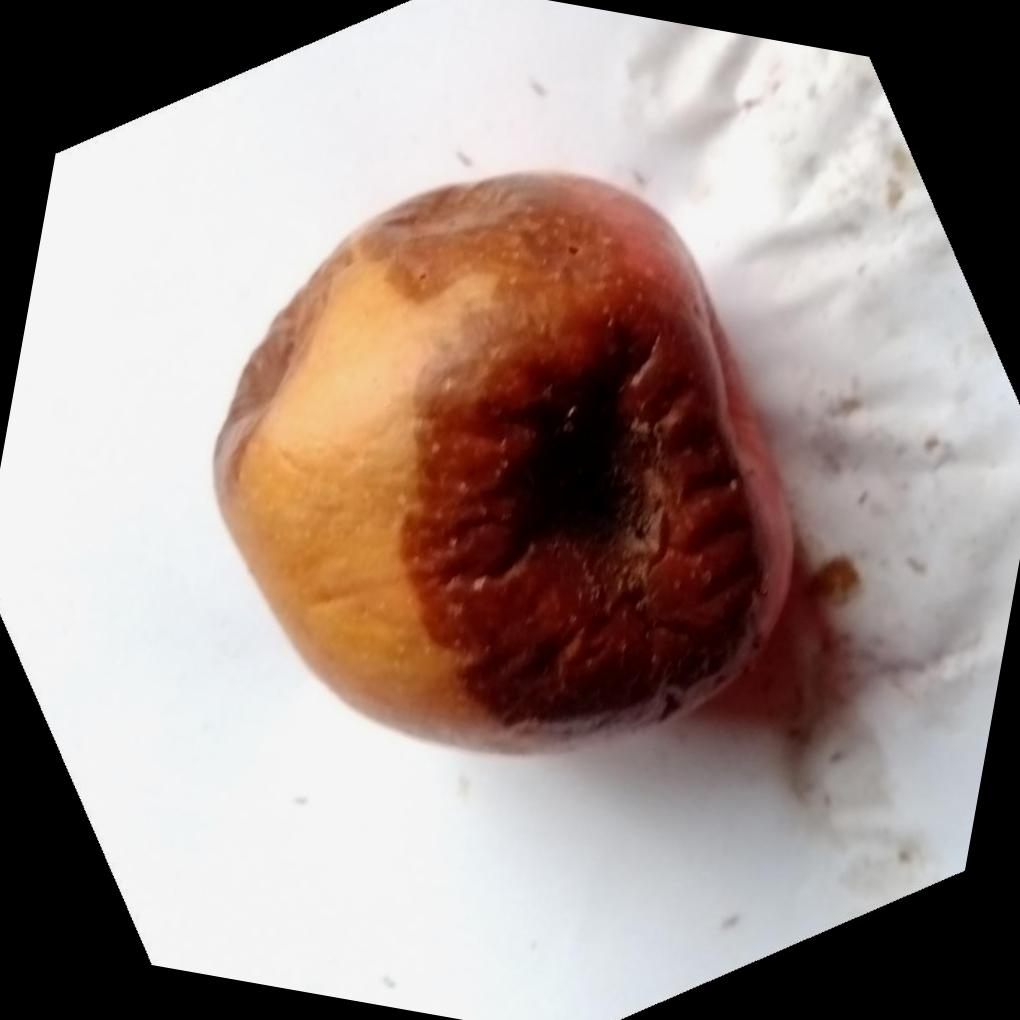FreshOrange: (214, 169, 805, 760)
